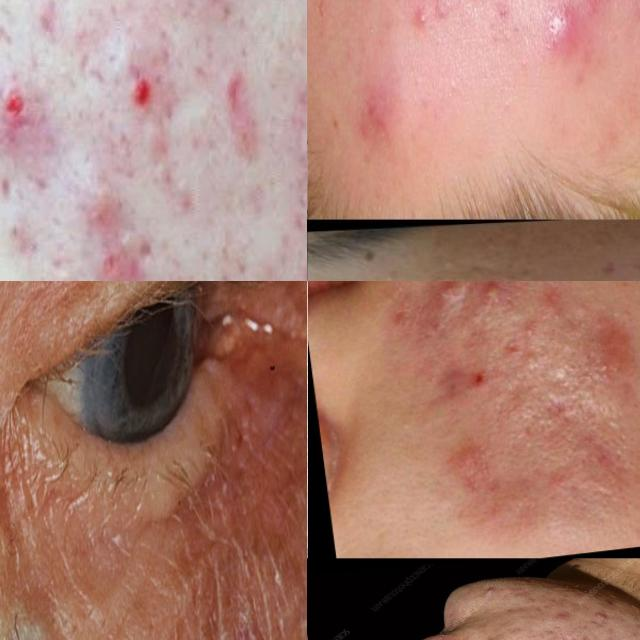acne_scars: (592, 250, 624, 281), (482, 584, 508, 601), (552, 610, 570, 626)
comedone: (430, 251, 473, 281), (376, 254, 402, 281), (513, 314, 537, 338), (593, 355, 617, 378), (601, 304, 625, 323)
cystic: (533, 0, 590, 72)
papule: (352, 76, 399, 165), (432, 281, 462, 297)
pustule: (473, 281, 505, 309), (627, 580, 640, 600)
sebo-crystan-conglo: (401, 0, 444, 39), (586, 604, 622, 629)
